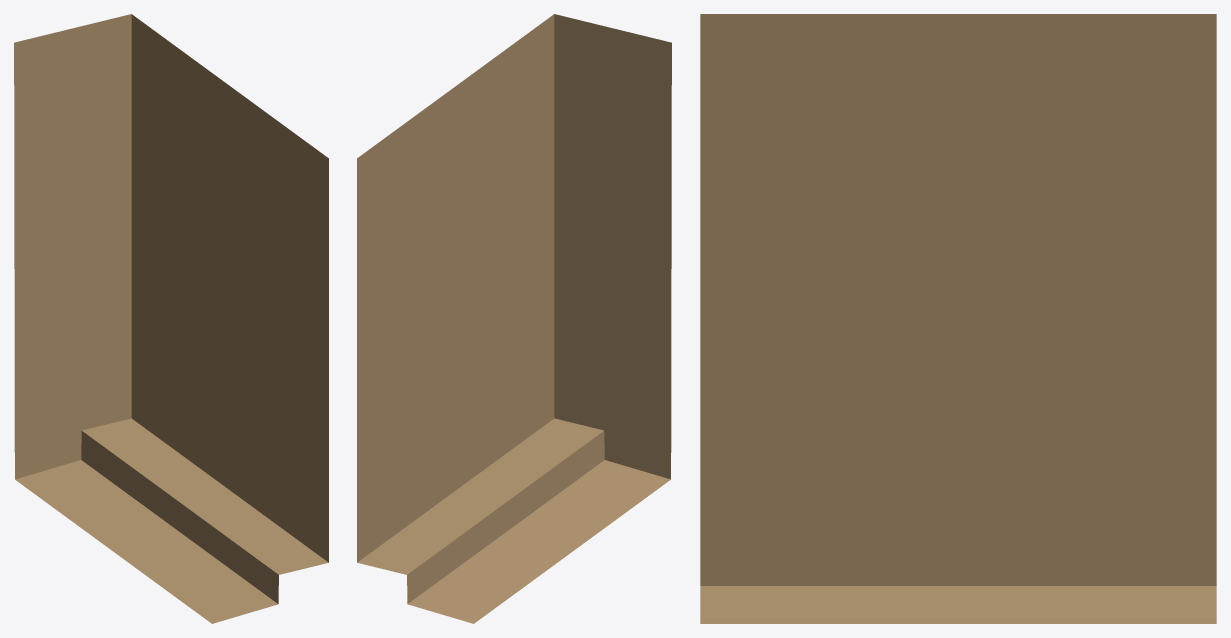
The picture shows the model from 3 angles, left to right: view 1: azimuth 30°, elevation 25°; view 2: azimuth 150°, elevation 25°; view 3: azimuth 270°, elevation 25°; orthographic projection. The views are drawn at different scales.
Parts seen in each view (by area): view 1: 0_3_2_3_1_1_0_0_3; view 2: 0_3_2_3_1_1_0_0_3; view 3: 0_3_2_3_1_1_0_0_3.
Part boxes in pixels (left/top/right/bottom): 0_3_2_3_1_1_0_0_3: left=14, top=14, right=328, bottom=623; 0_3_2_3_1_1_0_0_3: left=357, top=14, right=671, bottom=623; 0_3_2_3_1_1_0_0_3: left=700, top=14, right=1216, bottom=623.
Size of the model in its own units: 8.25 by 29.33 by 24.
